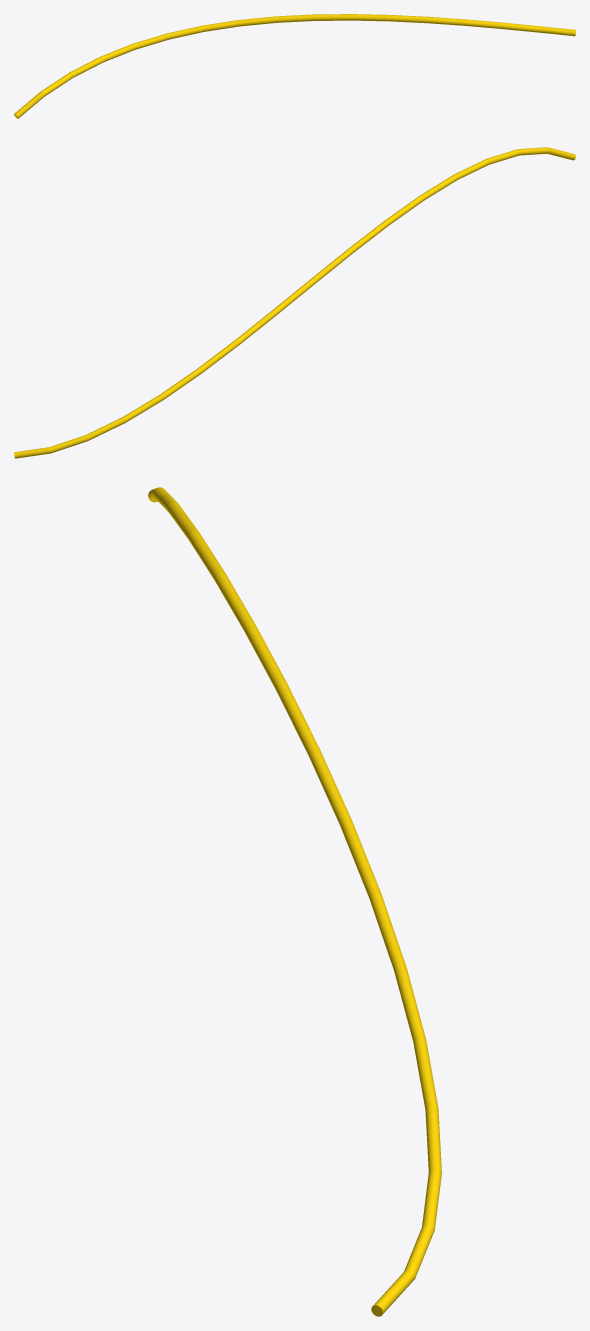
File: Event_421115418_track_139.fbx
The picture shows the model from 3 angles, top to bottom: view 1: azimuth 30°, elevation 25°; view 2: azimuth 210°, elevation 25°; view 3: azimuth 270°, elevation 25°; orthographic projection. The views are drawn at different scales.
Visible parts, largest first — view 1: Model; view 2: Model; view 3: Model.
Boxes of the visible parts, left/top/right/bottom form: Model: left=14, top=14, right=575, bottom=118; Model: left=14, top=147, right=575, bottom=458; Model: left=148, top=487, right=441, bottom=1316.
Bounding box in the file's own units: 4.33 × 0.9363 × 0.8928.
